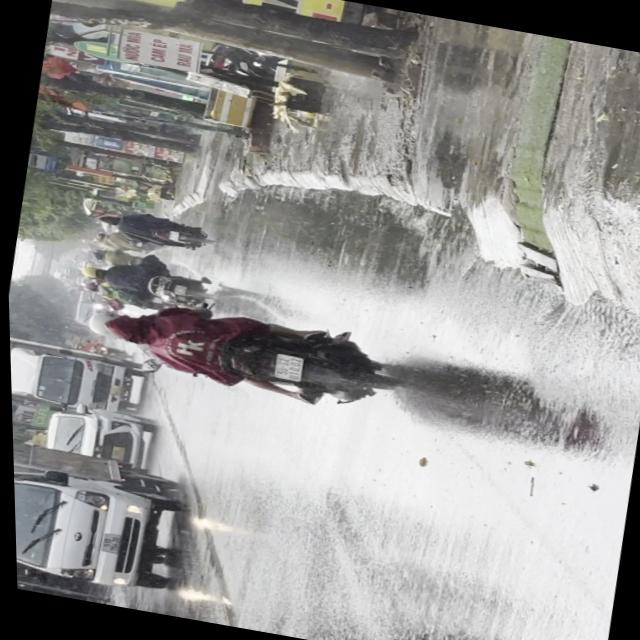helmet: (99, 308, 152, 346), (81, 308, 113, 338)
licenseplate: (70, 282, 406, 422)
nohelmet: (271, 353, 301, 381)
